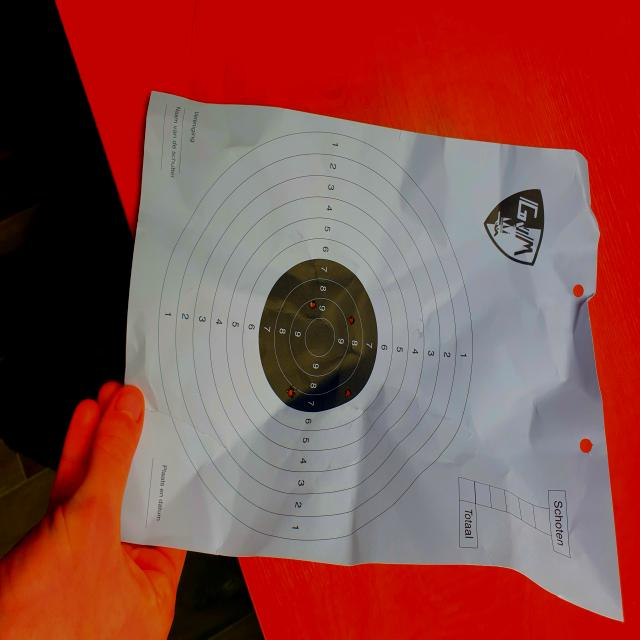7: (285, 384, 298, 402), (344, 389, 352, 399)
8: (348, 315, 356, 326)
9: (309, 300, 317, 310)
Target: (157, 132, 471, 545)
black_contour: (259, 258, 378, 414)
